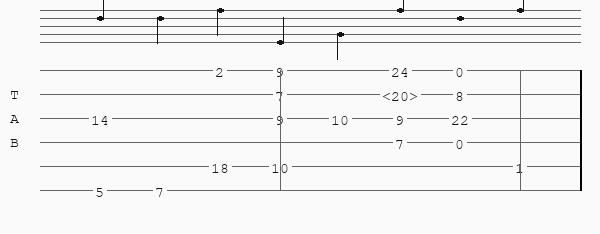0: (455, 136, 468, 149), (455, 64, 468, 77)
1: (515, 160, 528, 173)
10: (271, 160, 293, 173), (331, 112, 353, 125)
14: (91, 112, 113, 125)
18: (211, 160, 233, 173)
2: (215, 64, 228, 77)
22: (451, 112, 473, 125)
24: (391, 64, 413, 77)
5: (95, 184, 108, 197)
7: (155, 184, 168, 197), (275, 88, 288, 101), (395, 136, 408, 149)
8: (455, 88, 468, 101)
9: (275, 112, 288, 125), (275, 64, 288, 77), (395, 112, 408, 125)
harmonic: (382, 88, 422, 101)
